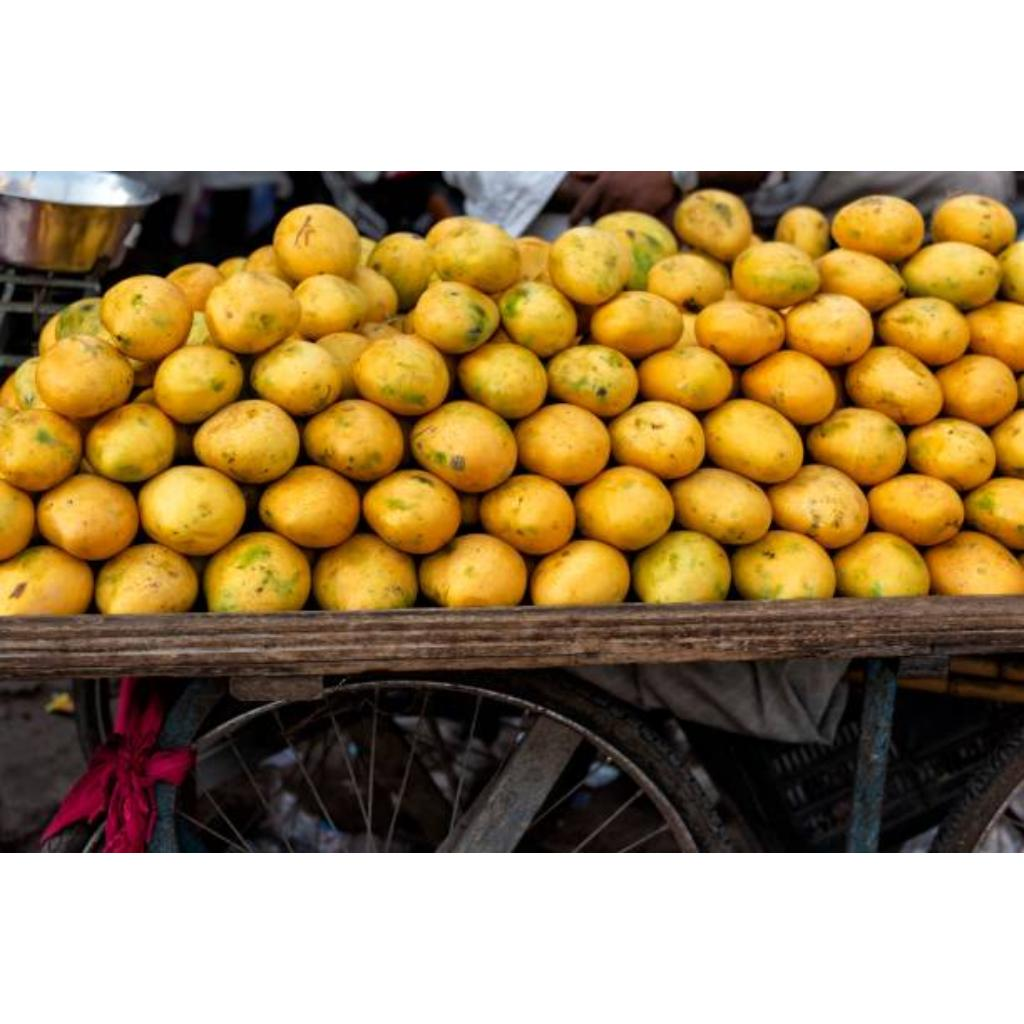mango: (410, 401, 516, 492), (138, 467, 246, 554), (194, 401, 300, 484), (38, 475, 140, 560), (702, 399, 804, 483), (768, 465, 868, 549), (36, 335, 134, 419), (206, 533, 310, 612), (574, 469, 674, 551), (100, 275, 194, 362), (312, 533, 418, 610), (260, 467, 360, 548), (304, 401, 404, 481), (366, 471, 462, 554), (352, 335, 450, 416), (668, 469, 772, 545), (846, 345, 944, 425), (206, 271, 300, 354), (516, 403, 610, 485), (420, 535, 526, 607), (480, 475, 576, 554), (610, 401, 706, 479), (806, 411, 904, 487), (94, 543, 198, 614), (730, 531, 836, 600), (250, 337, 342, 416), (632, 531, 730, 604), (426, 217, 520, 293), (154, 345, 244, 424), (742, 351, 836, 425), (458, 343, 548, 419), (902, 241, 1002, 309), (0, 545, 94, 616), (870, 475, 964, 546), (594, 211, 678, 290), (410, 281, 500, 354), (0, 411, 82, 491), (908, 417, 996, 491), (530, 541, 630, 606), (548, 345, 638, 417), (876, 297, 970, 365), (786, 293, 872, 367), (830, 195, 924, 262), (274, 207, 360, 280), (590, 291, 682, 359), (924, 533, 1024, 595), (498, 281, 578, 358), (836, 533, 930, 598), (640, 345, 734, 410), (694, 299, 786, 365), (550, 229, 630, 304), (936, 355, 1018, 426), (674, 189, 752, 262), (816, 249, 906, 312), (734, 245, 820, 308), (930, 195, 1016, 254), (368, 233, 434, 308), (294, 273, 366, 340), (648, 253, 724, 310), (964, 479, 1024, 550), (966, 301, 1024, 372), (316, 333, 370, 400), (776, 207, 830, 258), (350, 265, 398, 322), (519, 237, 552, 284)
